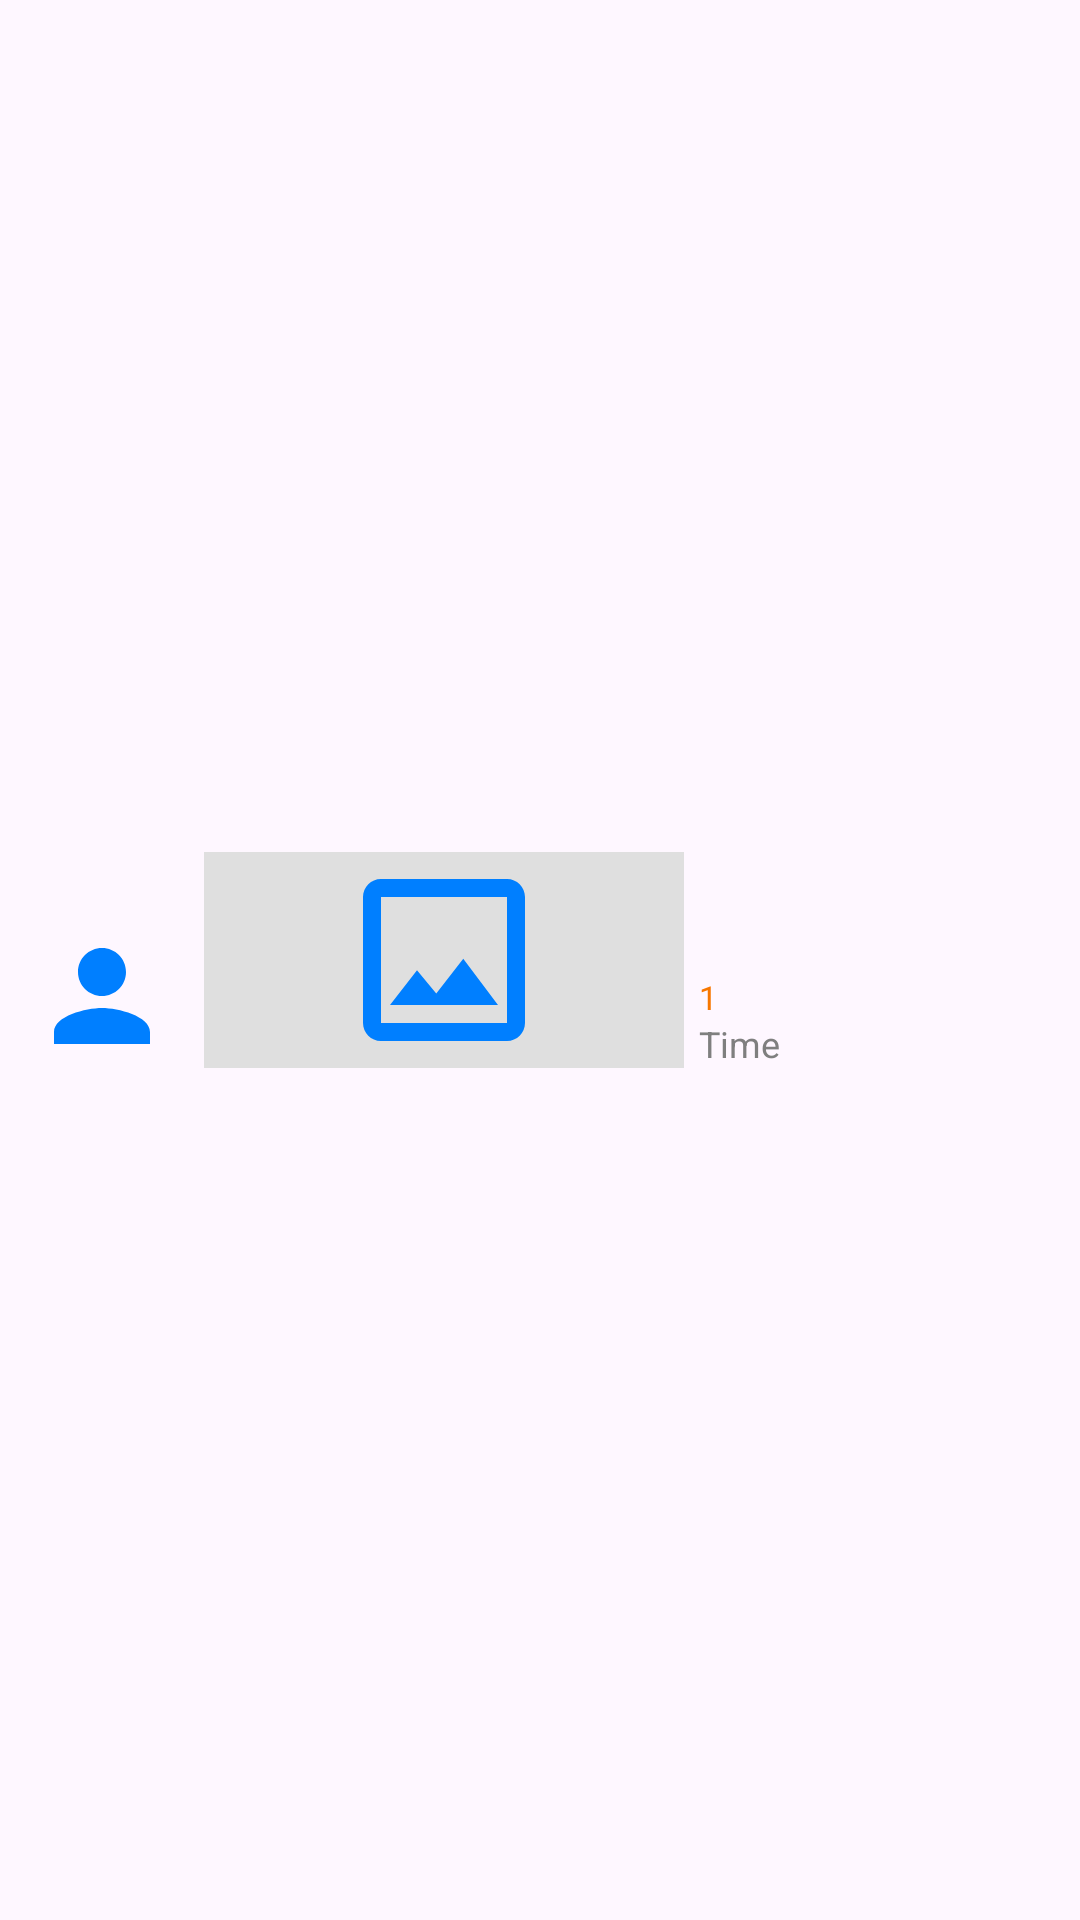

Icons on this 1080px x 1920px Android screen, each with the point to tap as point (x, y):
person: point (102, 996)
